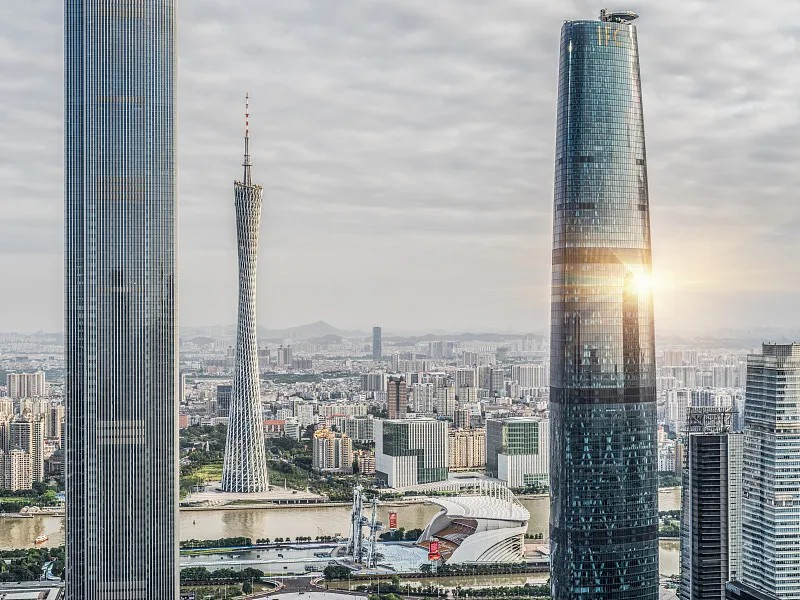Canton: (218, 91, 272, 493)
